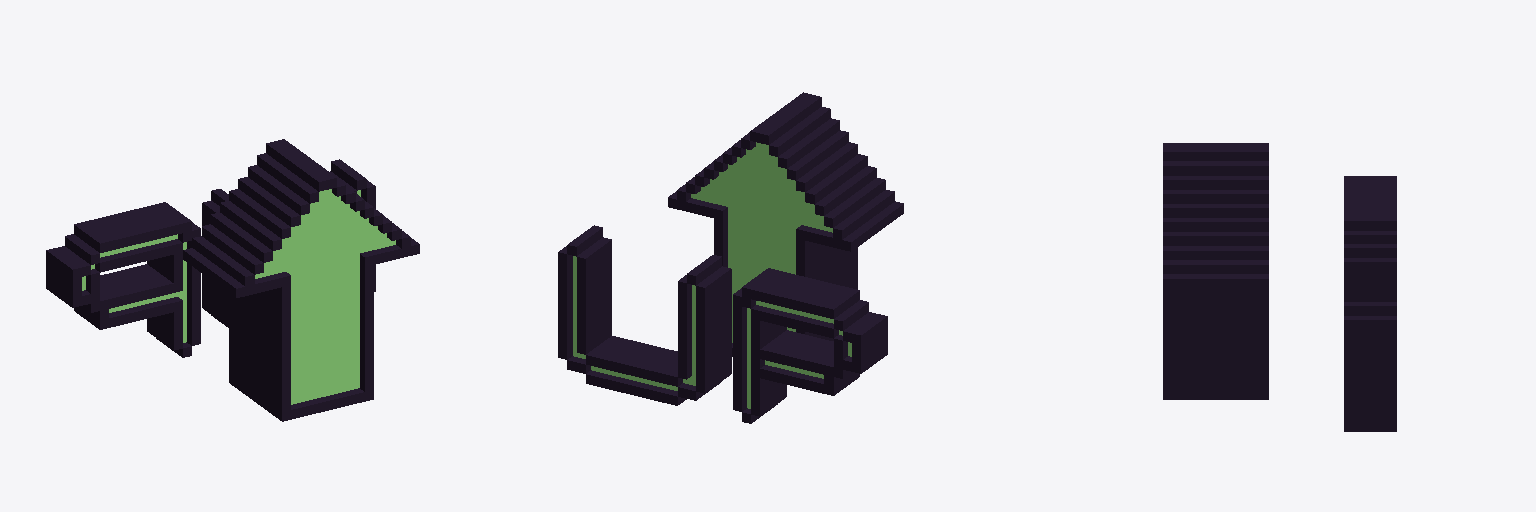
3 views of the same model, side by side, from view 1: azimuth 30°, elevation 25°; view 2: azimuth 150°, elevation 25°; view 3: azimuth 270°, elevation 25° (orthographic).
Parts seen in each view (by area): view 1: object 1; view 2: object 1; view 3: object 1.
Part boxes in pixels (x1,y1,x2,y2): object 1: (46,139,419,421); object 1: (558,92,903,423); object 1: (1163,143,1396,431).
Bounding box in the file's own units: 3.3 × 2.4 × 2.2.
1 materials, 1 textured.